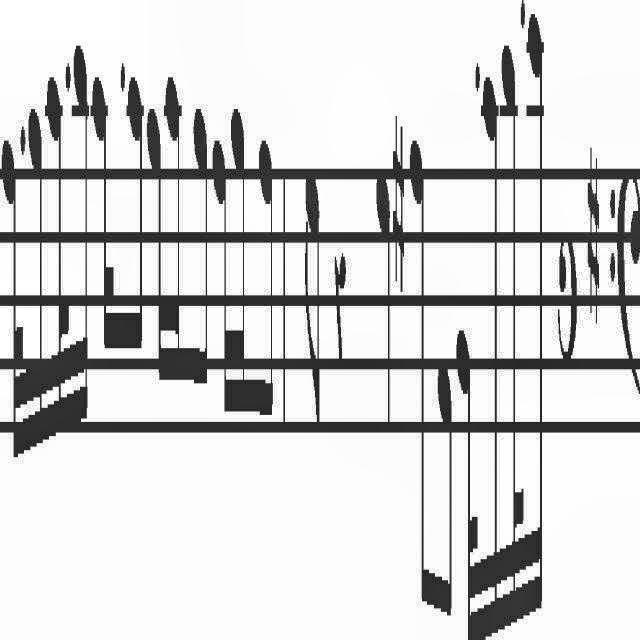Diez: (584, 138, 604, 338), (392, 112, 408, 300)
Eighth-note: (411, 128, 432, 612), (253, 133, 277, 431), (297, 168, 323, 420), (192, 113, 212, 411), (128, 75, 144, 388), (438, 348, 454, 640)
Eighth-rest: (330, 232, 348, 391)
Quarter-note: (372, 166, 392, 440)
Sixteenth-note: (525, 0, 546, 604), (482, 67, 497, 640), (95, 54, 114, 406), (73, 34, 89, 442), (166, 62, 184, 418), (28, 103, 44, 489), (230, 97, 248, 423), (146, 90, 164, 404), (214, 115, 230, 431)
